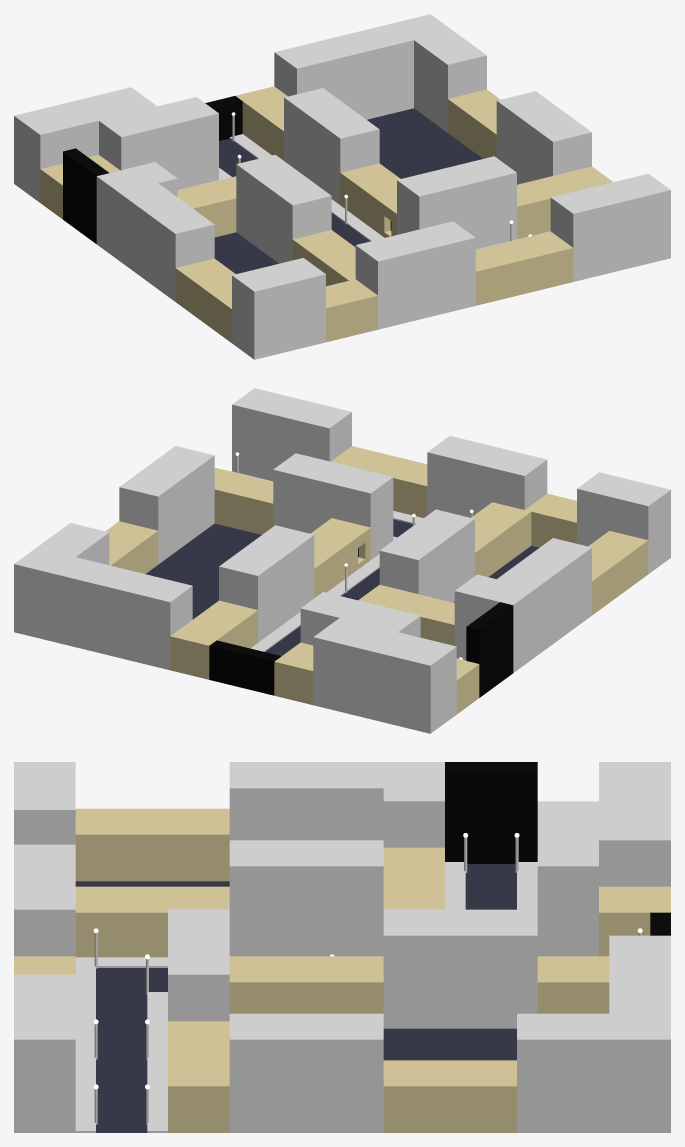
The model's file is SceneGround.glb.
3 views of the same model, one above another, from view 1: azimuth 30°, elevation 25°; view 2: azimuth 150°, elevation 25°; view 3: azimuth 270°, elevation 25° (orthographic). The views are drawn at different scales.
Parts seen in each view (by area): view 1: Cube, Cube.004, Cube.023, Cube.002, Cube.031, Cube.015, Plane, Cube.030, Cube.006, Cube.012, Cube.032, Cube.016 (+15 smaller); view 2: Cube.032, Cube.023, Cube.002, Cube, Cube.004, Cube.016, Cube.012, Cube.006, Cube.030, Cube.031, Plane, Cube.018 (+16 smaller); view 3: Cube.016, Cube.018, Cube.012, Cube.006, Plane, Cube.030, Cube.029, Cube, Cube.017, Cube.015, Cube.027, Cube.032 (+17 smaller).
Boxes of the visible parts, x1,y1,x2,y2 form: Cube: (550, 173, 670, 281); Cube.004: (355, 221, 475, 329); Cube.023: (274, 23, 413, 119); Cube.002: (397, 156, 516, 249); Cube.031: (232, 258, 325, 359); Cube.015: (99, 97, 218, 189); Plane: (214, 108, 517, 273); Cube.030: (119, 183, 214, 301); Cube.006: (236, 154, 331, 263); Cube.012: (284, 88, 379, 204); Cube.032: (14, 87, 156, 202); Cube.016: (496, 91, 591, 184); Cube.032: (313, 618, 456, 733); Cube.023: (53, 557, 192, 670); Cube.002: (273, 453, 393, 559); Cube: (232, 388, 351, 481); Cube.004: (427, 436, 547, 517); Cube.016: (119, 446, 214, 564); Cube.012: (219, 525, 314, 642); Cube.006: (379, 509, 474, 602); Cube.030: (497, 538, 591, 656); Cube.031: (577, 472, 670, 573); Plane: (145, 519, 539, 655); Cube.018: (14, 523, 109, 641); Cube.016: (229, 1013, 383, 1132); Cube.018: (517, 1013, 670, 1132); Cube.012: (383, 909, 537, 1028); Cube.006: (229, 840, 383, 956); Plane: (75, 864, 516, 1132); Cube.030: (229, 762, 383, 840); Cube.029: (75, 808, 229, 881); Cube: (14, 974, 75, 1132); Cube.017: (383, 1060, 516, 1132); Cube.015: (537, 801, 598, 956); Cube.027: (445, 762, 537, 863); Cube.032: (599, 762, 670, 886).
Size of what is drawn, in the model's own units: 64 by 10 by 64.
